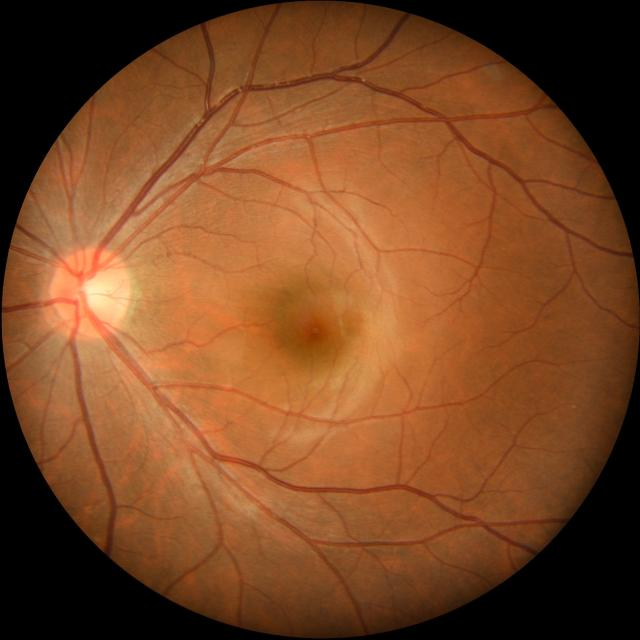OC: (79, 274, 115, 318)
OD: (51, 247, 132, 337)
